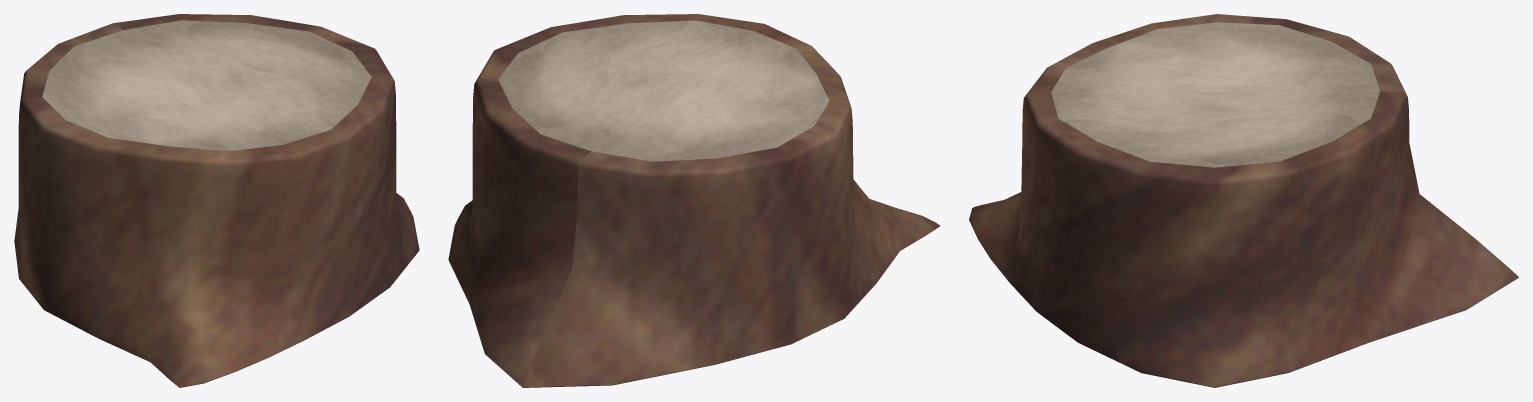
The model's file is Stump.fbx.
The picture shows the model from 3 angles, left to right: view 1: azimuth 30°, elevation 25°; view 2: azimuth 150°, elevation 25°; view 3: azimuth 270°, elevation 25°; orthographic projection. The views are drawn at different scales.
Parts seen in each view (by area): view 1: pCylinder1; view 2: pCylinder1; view 3: pCylinder1.
Part boxes in pixels (box(x1,y1,x2,y2)): pCylinder1: box(14, 14, 419, 387); pCylinder1: box(448, 14, 940, 387); pCylinder1: box(969, 14, 1518, 387).
Size of the model in its own units: 428 by 200 by 524.
